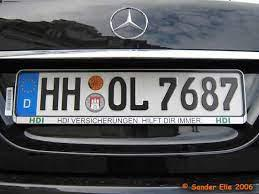6: (179, 76, 200, 111)
7: (157, 76, 178, 111), (219, 76, 239, 112)
8: (199, 76, 219, 112)
H: (38, 76, 61, 111), (62, 77, 84, 112)
L: (128, 76, 151, 111)
O: (107, 76, 128, 111)
